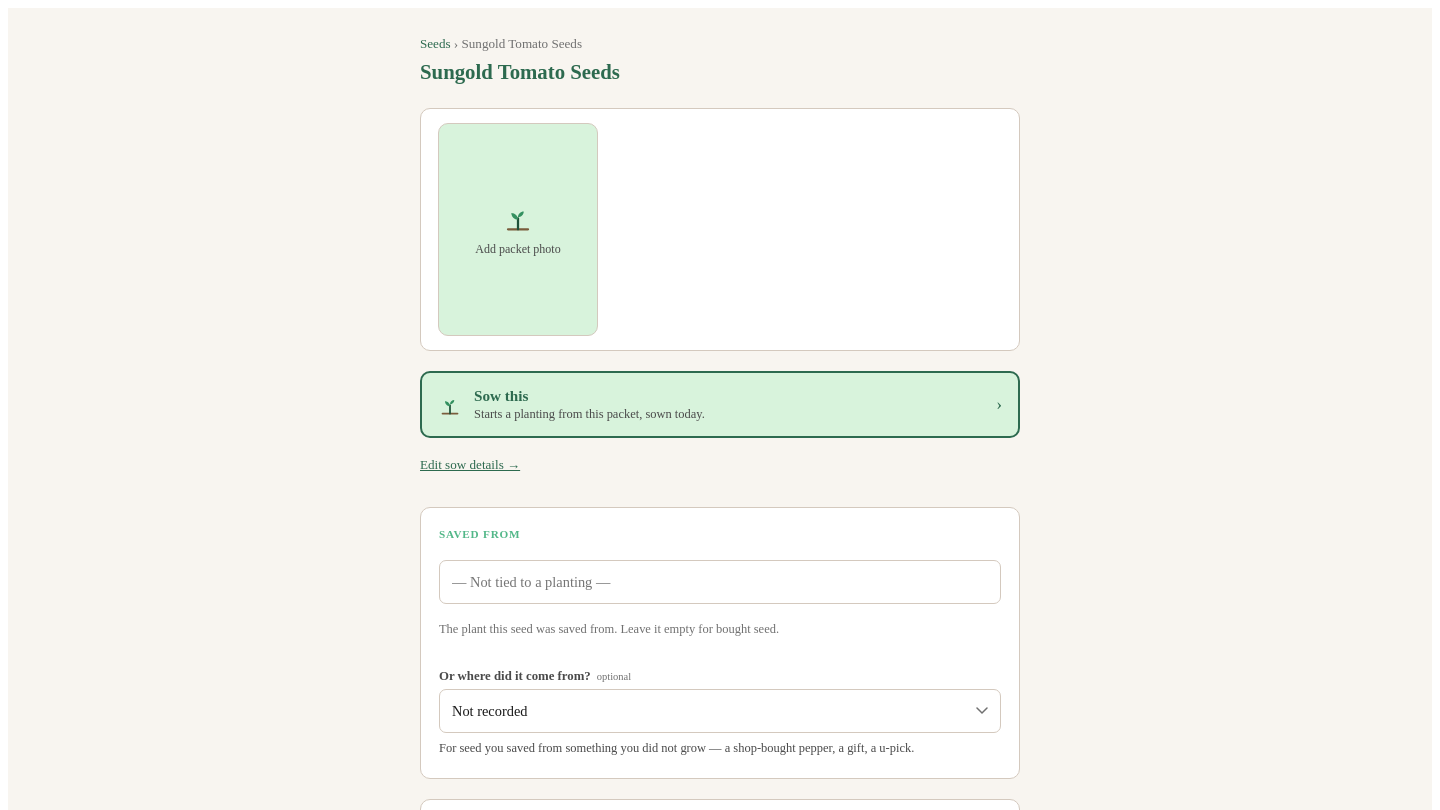
the Sow sheet on a packet's page › after a sow the page says so and offers the planting — and still offers Sow this
Click the button with test id "sow-this" at coordinates (501, 396), box [420,371,1020,438]
(page scrolled)
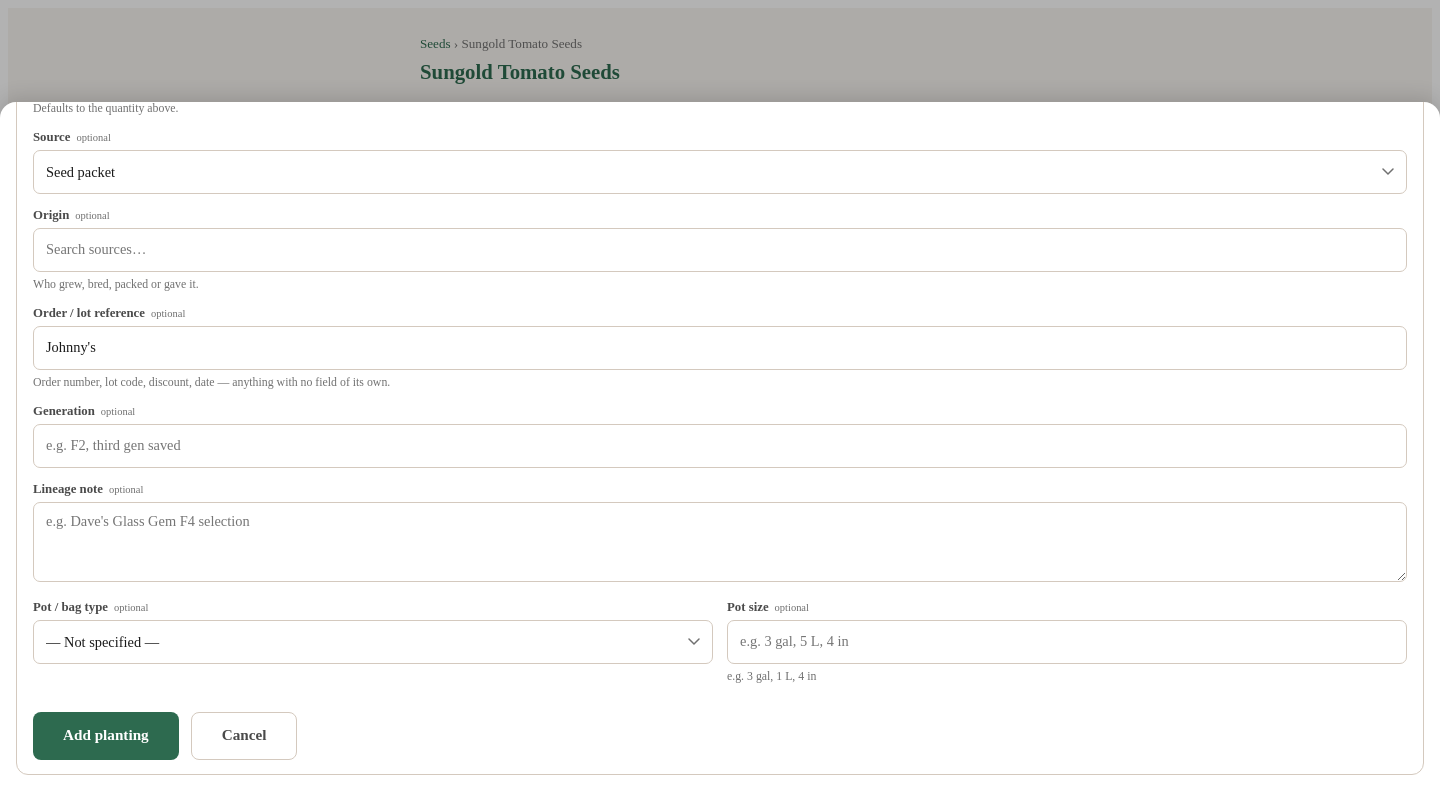
Click the button "Add planting" at coordinates (106, 736), box [33,712,179,760]
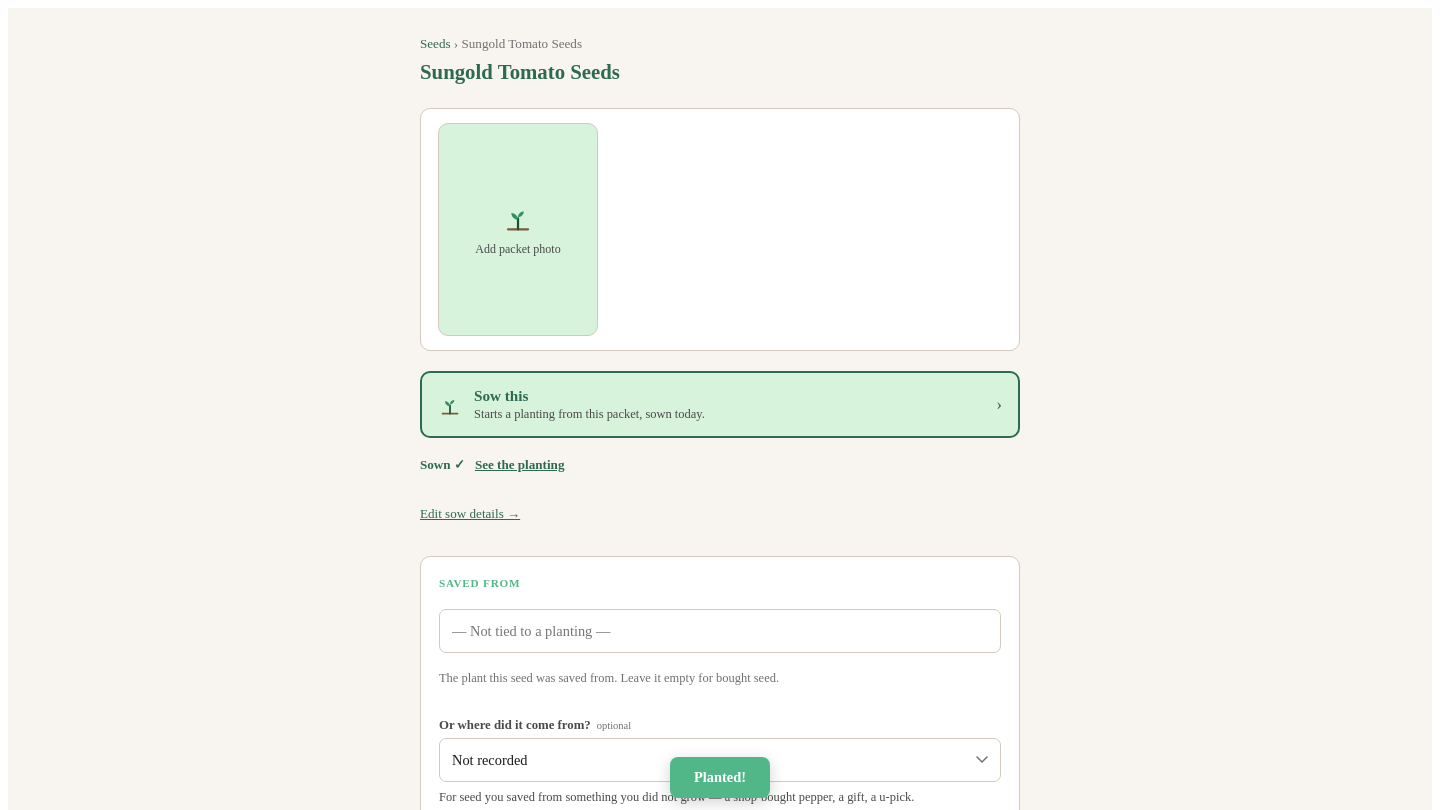
Expected: the message "Sown ✓ See the planting" is shown, [420,457,564,472]
Expected: the message with test id "sow-this-sown" shows "Sown ✓", [420,457,465,472]
Expected: the text "Planted!" is shown, [670,757,770,798]
